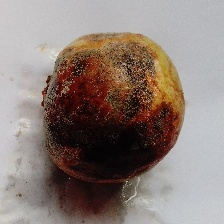guava: (37, 0, 205, 196)
